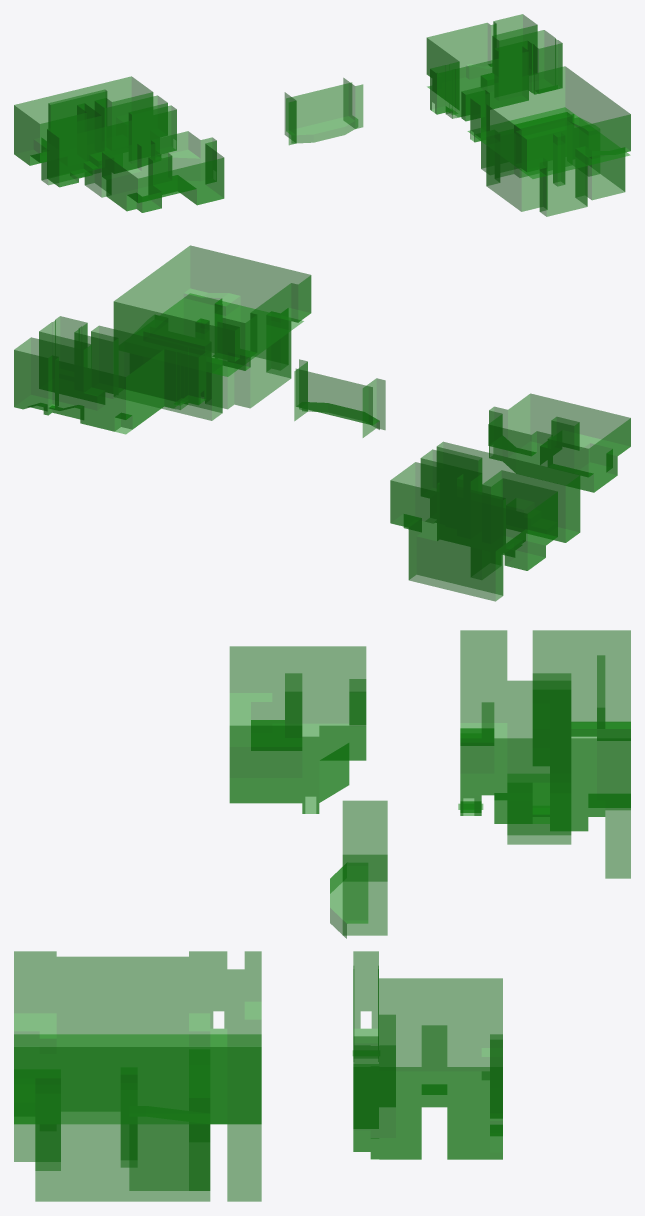
The model's file is camera_col.obj.
The picture shows the model from 3 angles, top to bottom: view 1: azimuth 30°, elevation 25°; view 2: azimuth 150°, elevation 25°; view 3: azimuth 270°, elevation 25°; orthographic projection. The views are drawn at different scales.
Size of the model in its own units: 242 by 44.95 by 144.
